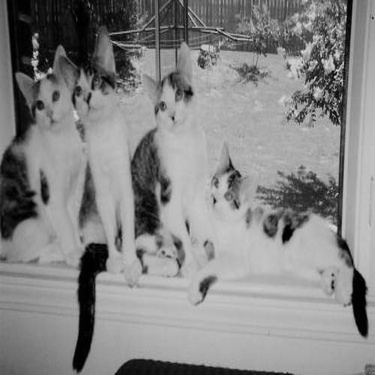cat: (203, 108, 366, 324), (57, 12, 141, 289), (127, 67, 212, 297), (6, 41, 76, 264)
